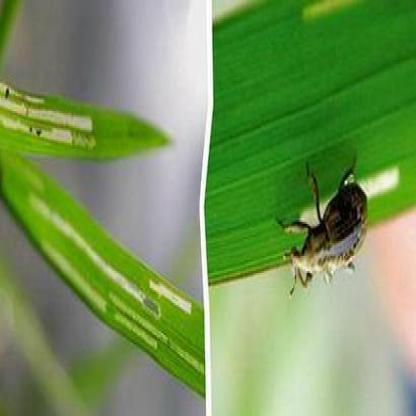rice-bug: (287, 165, 371, 297)
